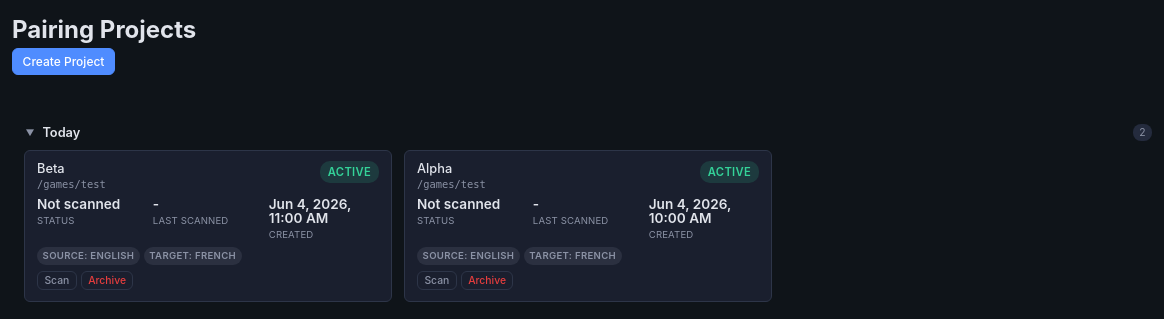
Test: PairingProjects › collapsible date sections › clicking group header collapses the cards inside
Check: the text "Alpha" is shown, box [417, 161, 452, 176]
Check: the text "Beta" is shown, box [37, 161, 65, 176]
// Click the "Today" group header (first output-job-group-header)
Click the button with class "output-job-group-header". click: (61, 132)
box: [25, 124, 1152, 141]
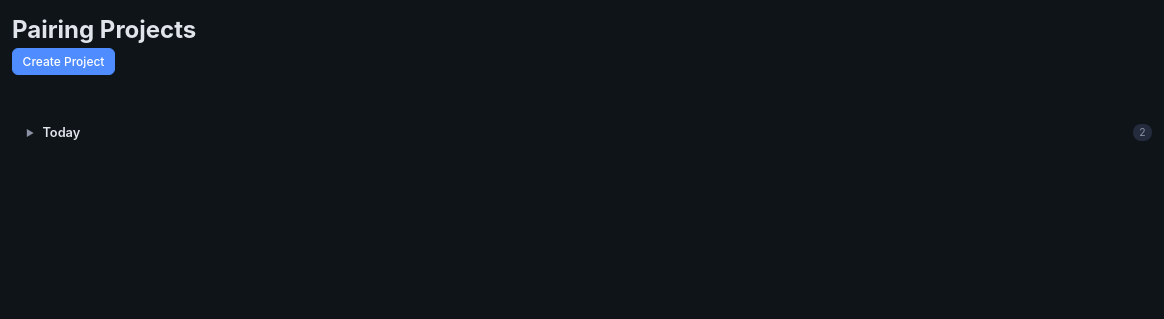
Check: the button "Alpha" is gone
Check: the button "Beta" is gone
